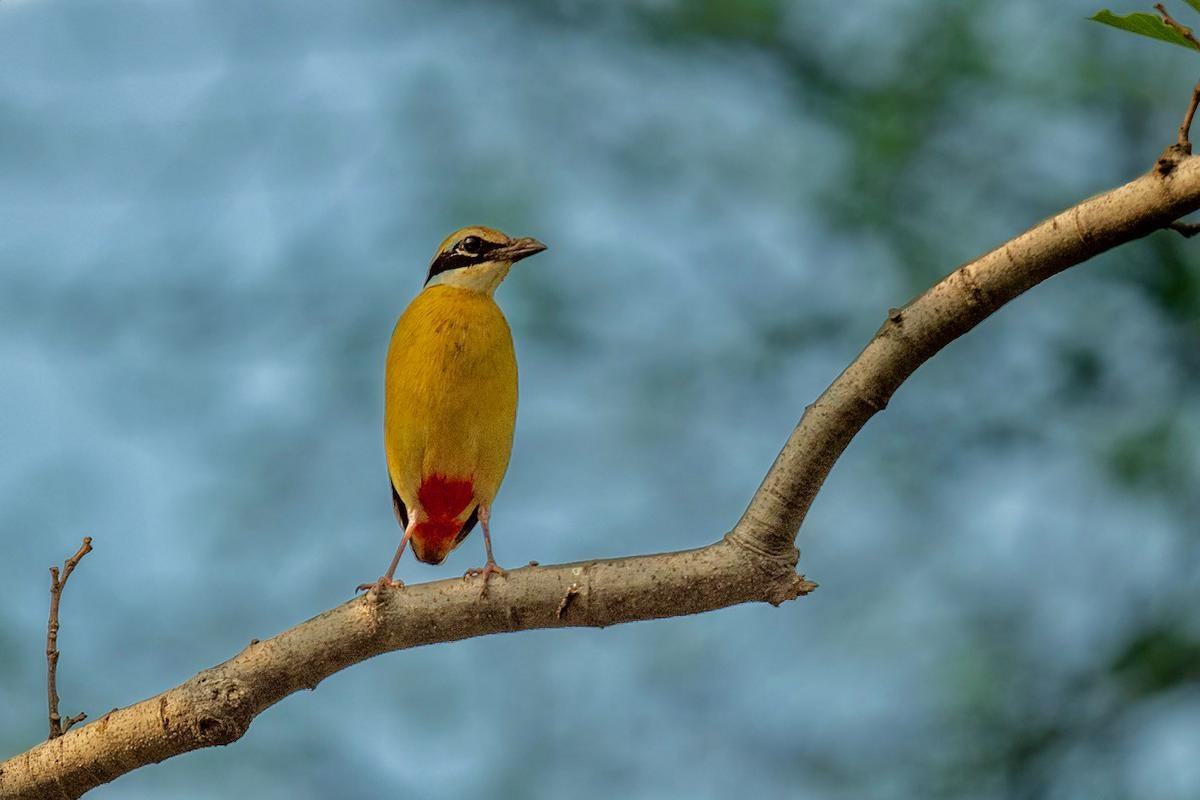pitta: (351, 207, 554, 626)
